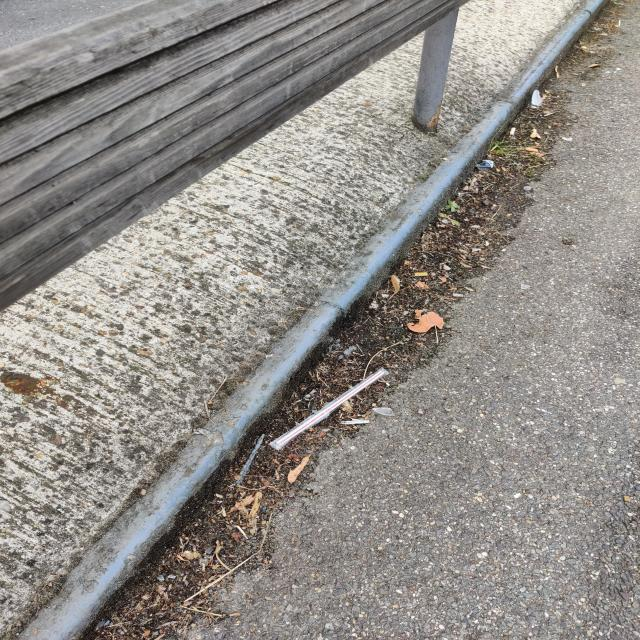litter: (271, 368, 391, 450), (234, 432, 269, 484), (508, 127, 518, 136)
